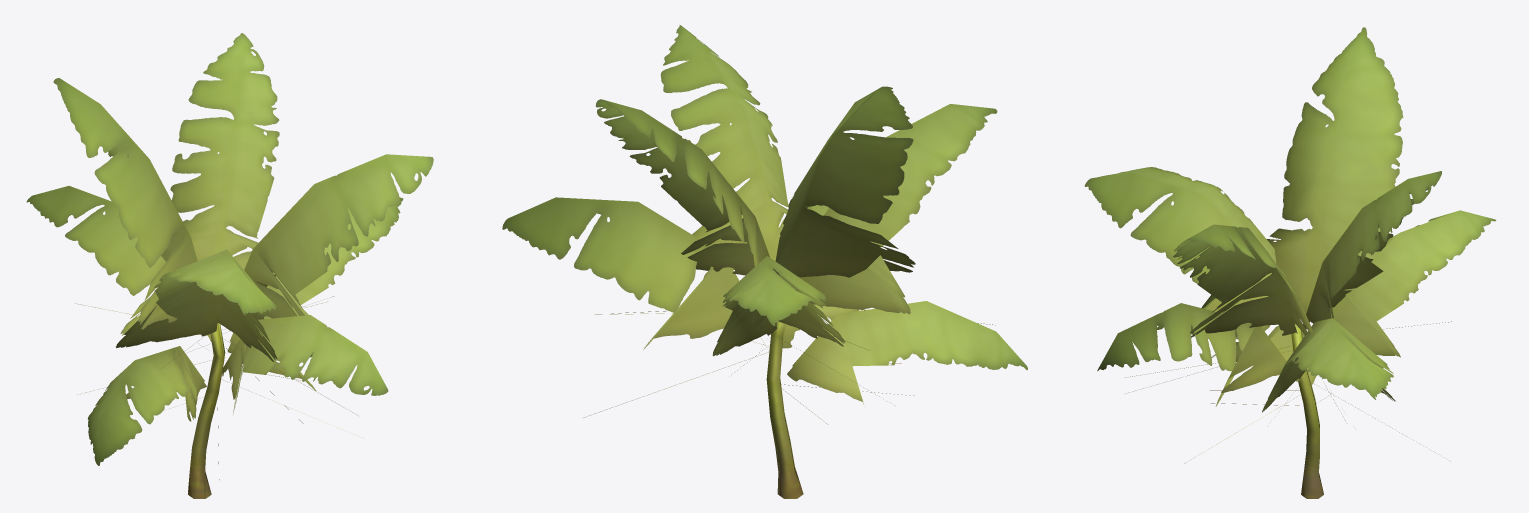
The model's file is banana plant 01_lod4.obj.
The picture shows the model from 3 angles, left to right: view 1: azimuth 30°, elevation 25°; view 2: azimuth 150°, elevation 25°; view 3: azimuth 270°, elevation 25°; orthographic projection. The views are drawn at different scales.
Parts seen in each view (by area): view 1: tree; view 2: tree; view 3: tree.
Boxes of the visible parts, x1,y1,x2,y2 form: tree: (26,33,433,498); tree: (502,25,1027,498); tree: (1084,27,1496,498).
Size of the model in its own units: 273 by 272 by 261.
